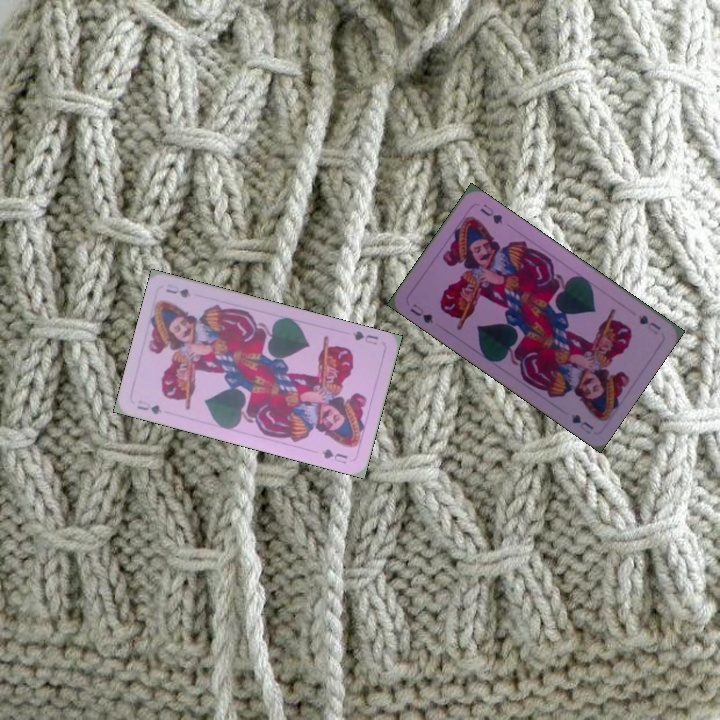GU: (406, 300, 436, 326), (634, 311, 663, 337), (349, 327, 381, 348), (133, 396, 164, 417)
